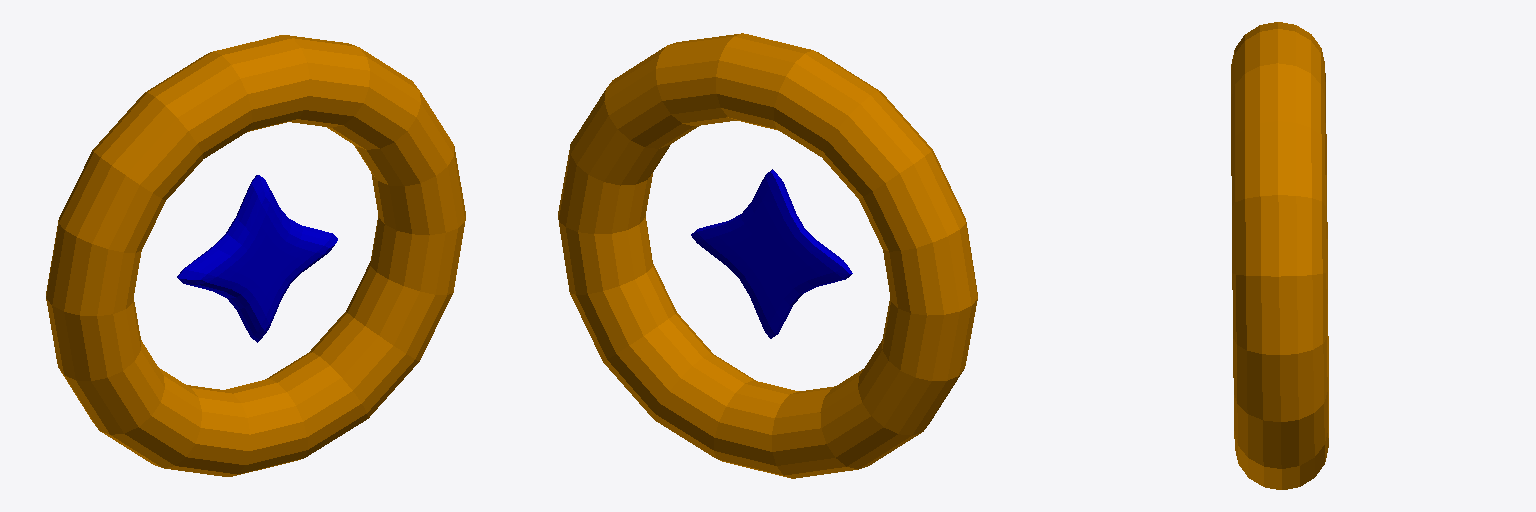
File: model_goalring.obj
3 renders of one model, left to right at view 1: azimuth 30°, elevation 25°; view 2: azimuth 150°, elevation 25°; view 3: azimuth 270°, elevation 25°, orthographic.
Visible parts, largest first — view 1: Goal_Ring; view 2: Goal_Ring; view 3: Goal_Ring.
Boxes of the visible parts, x1=… form: Goal_Ring: x1=46, y1=35, x2=465, y2=476; Goal_Ring: x1=558, y1=33, x2=977, y2=478; Goal_Ring: x1=1231, y1=22, x2=1328, y2=489.
Bounding box in the file's own units: 6.33 × 6.24 × 1.32.